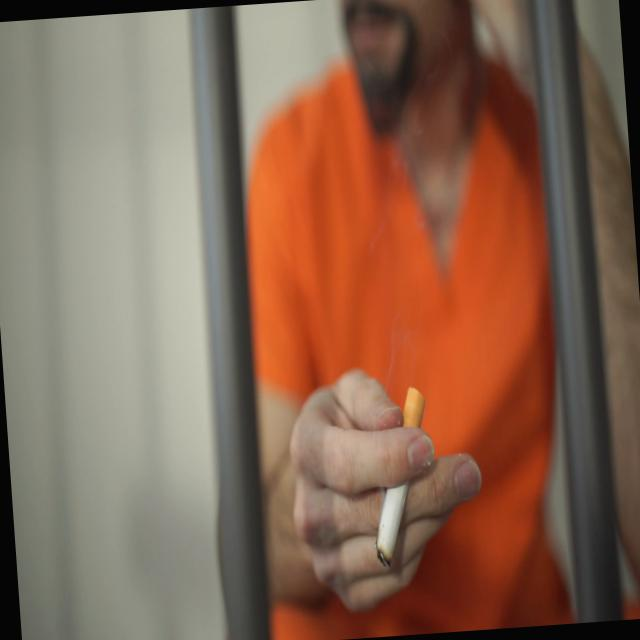cigarette: (372, 501, 412, 572)
